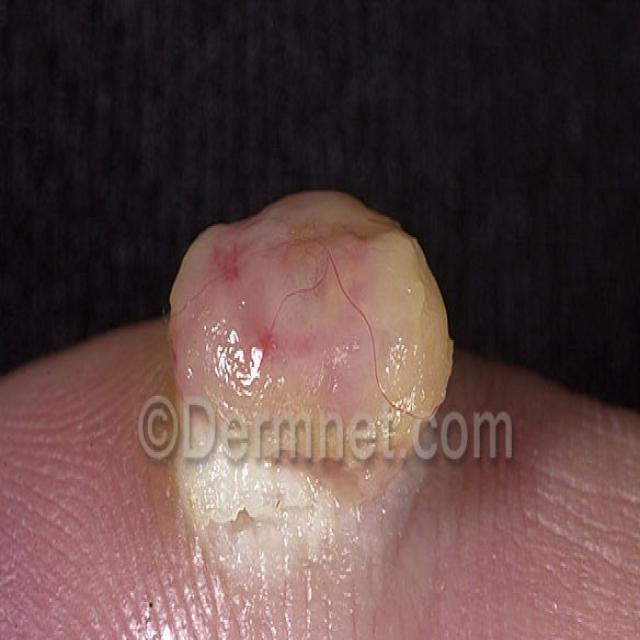Vascular Tumors: (128, 155, 489, 640)
